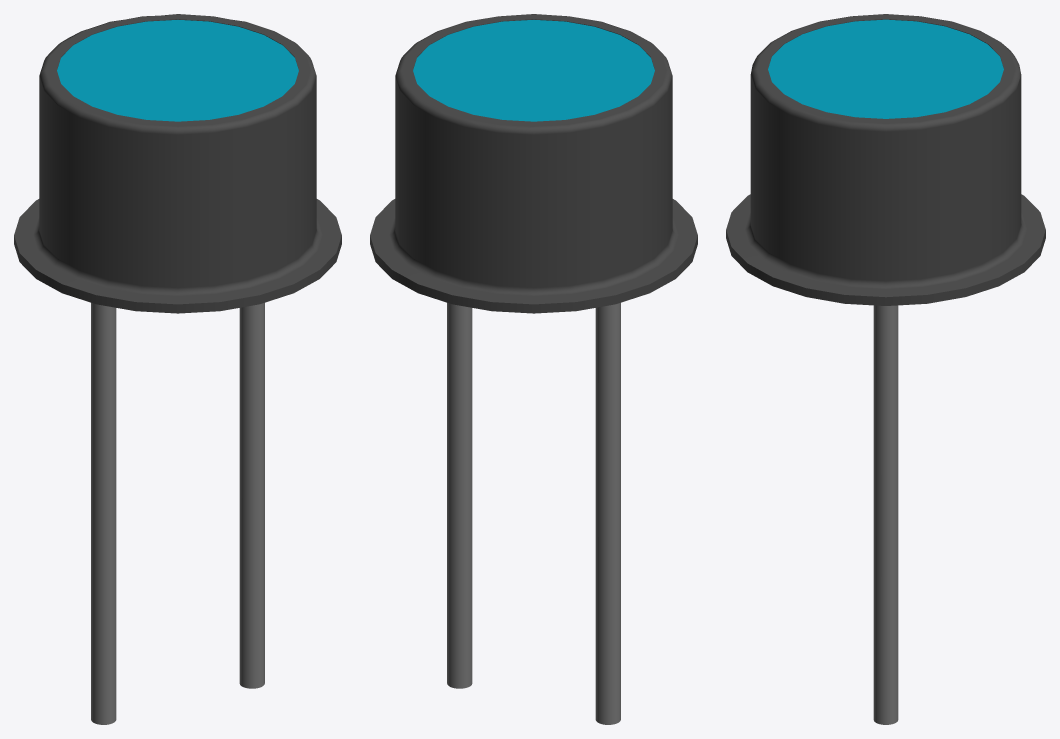
File: OptoDevice__R_LDR_D6.4mm_P3.4mm_Vertical.glb
3 views of the same model, side by side, from view 1: azimuth 30°, elevation 25°; view 2: azimuth 150°, elevation 25°; view 3: azimuth 270°, elevation 25° (orthographic). The views are drawn at different scales.
Visible parts, largest first — view 1: R_LDR_D6.4mm_P3.4mm_Vertical; view 2: R_LDR_D6.4mm_P3.4mm_Vertical; view 3: R_LDR_D6.4mm_P3.4mm_Vertical.
Boxes of the visible parts, bbox=[...] form: R_LDR_D6.4mm_P3.4mm_Vertical: bbox=[14, 14, 341, 724]; R_LDR_D6.4mm_P3.4mm_Vertical: bbox=[370, 14, 697, 724]; R_LDR_D6.4mm_P3.4mm_Vertical: bbox=[726, 14, 1045, 724].
Bounding box in the file's own units: 0.0065 × 0.0138 × 0.0065.
